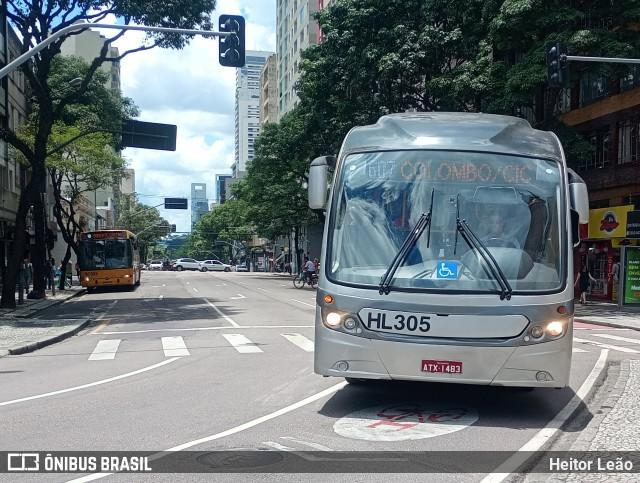COLOMBO CIC: (399, 157, 536, 187)
